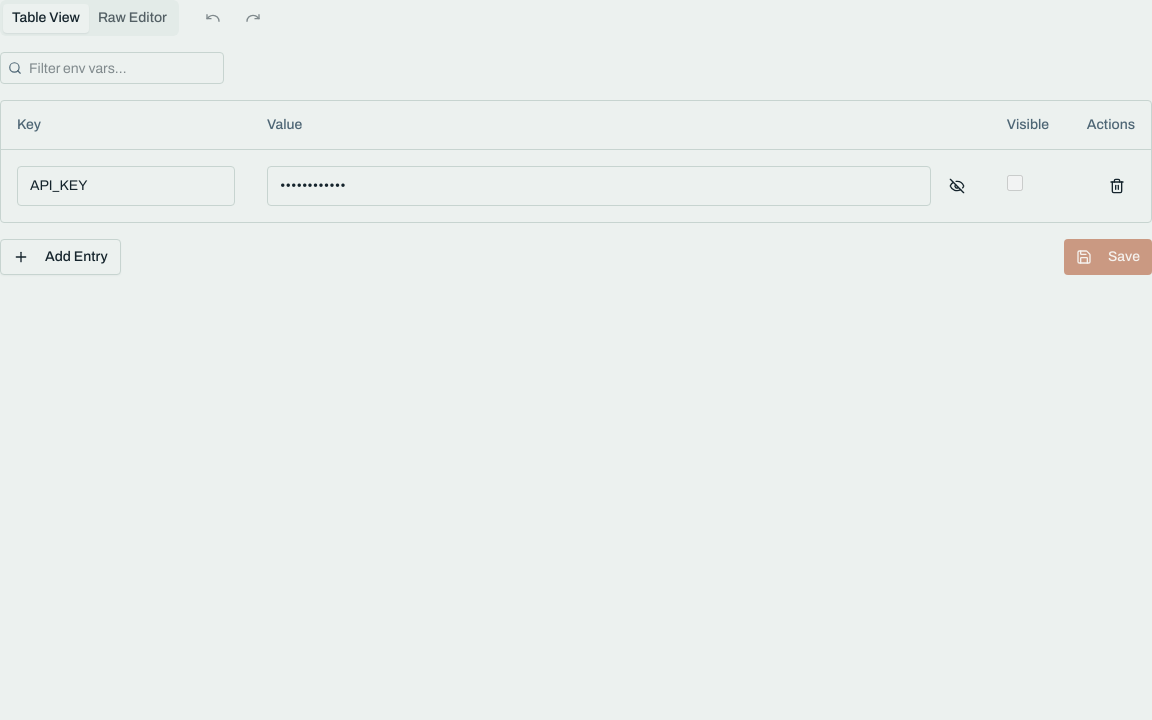
Test: EnvEditor unlock dialog wiring › reveal on a locked, auth-enabled entry opens the unlock dialog instead of revealing it
expect the password field showing "secret-value" is shown: met, box [267,166,931,206]
Click the button named "Toggle visibility for entry 1": (957, 186) [939,168,975,204]
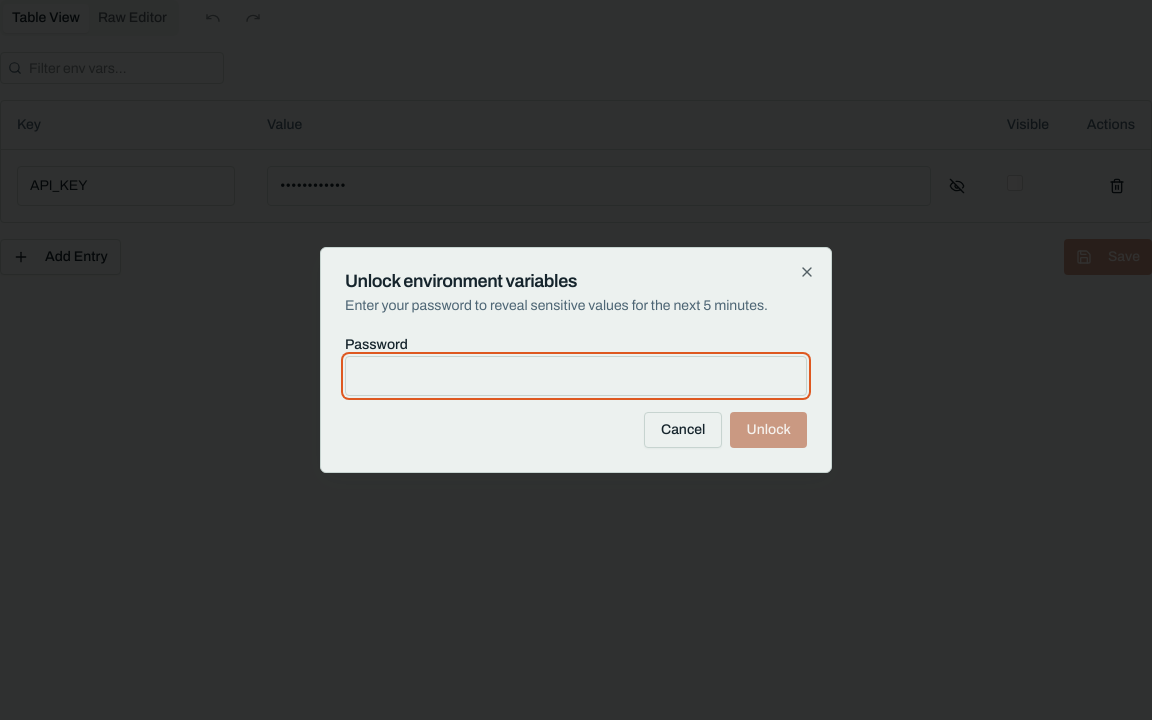
expect the heading "Unlock environment variables" is shown: met, box [345,271,577,291]
